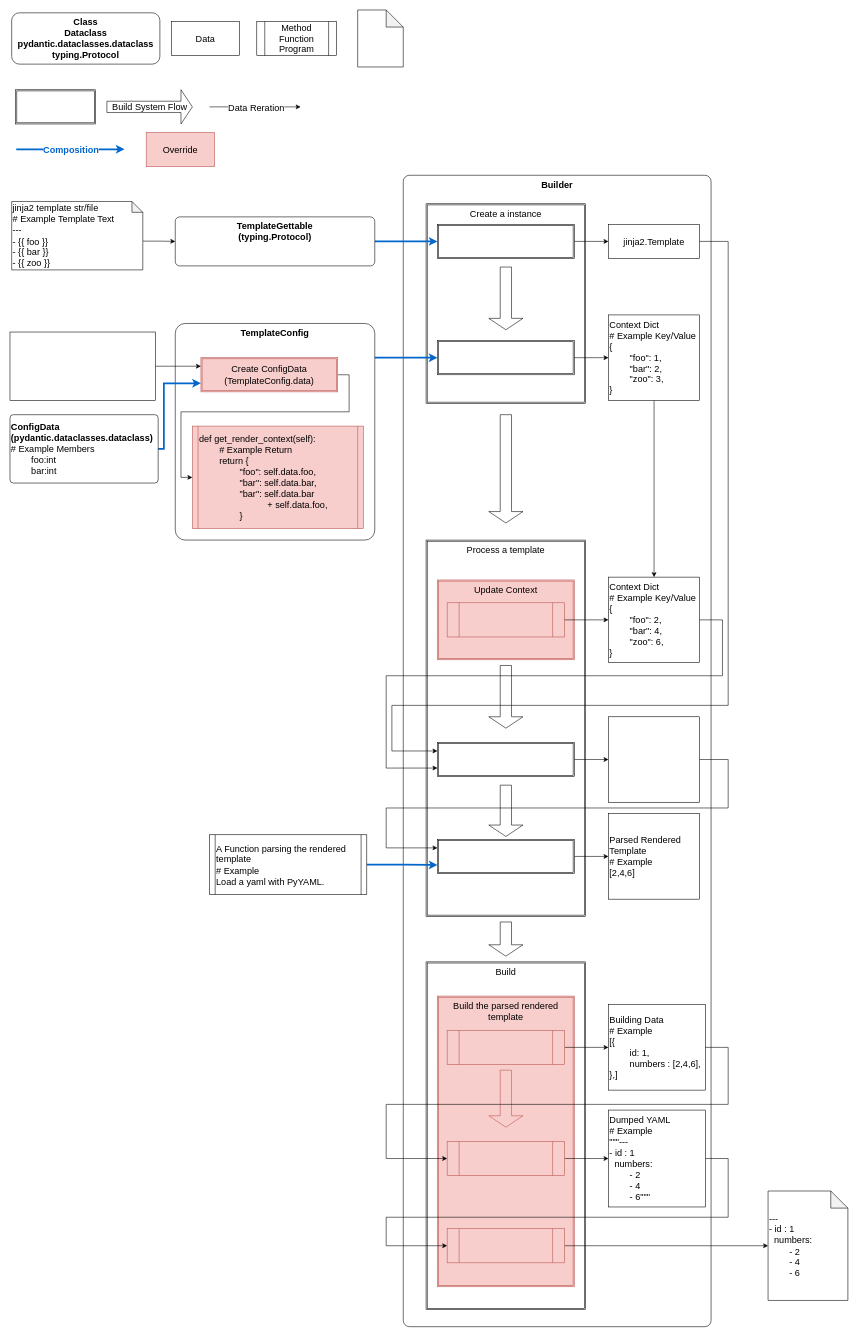
Some shapes in this 858 by 1337 pixel diagram are drawn without their labels. The shapes that lost their labels are listed below. From the top down, each one's centre as x and y in pixels, then its label:
point 380,38: File
point 55,106: Build System
point 505,241: Get a template
point 82,365: Raw Config Dict # Example Key/Value { "foo": 1, "bar": 2, }
point 505,357: Get a rendering Context
point 506,619: Double all items in the dictionary
point 505,759: Render the template with the context
point 654,759: Rendered Text # Example """--- - 2 - 4 - 6"""
point 505,856: Parse the rendered template
point 506,1047: Add the list to a structured dictionary
point 506,1158: Dump the p arsed rendered template with PyYAML
point 506,1245: Write the YAML text to a file
